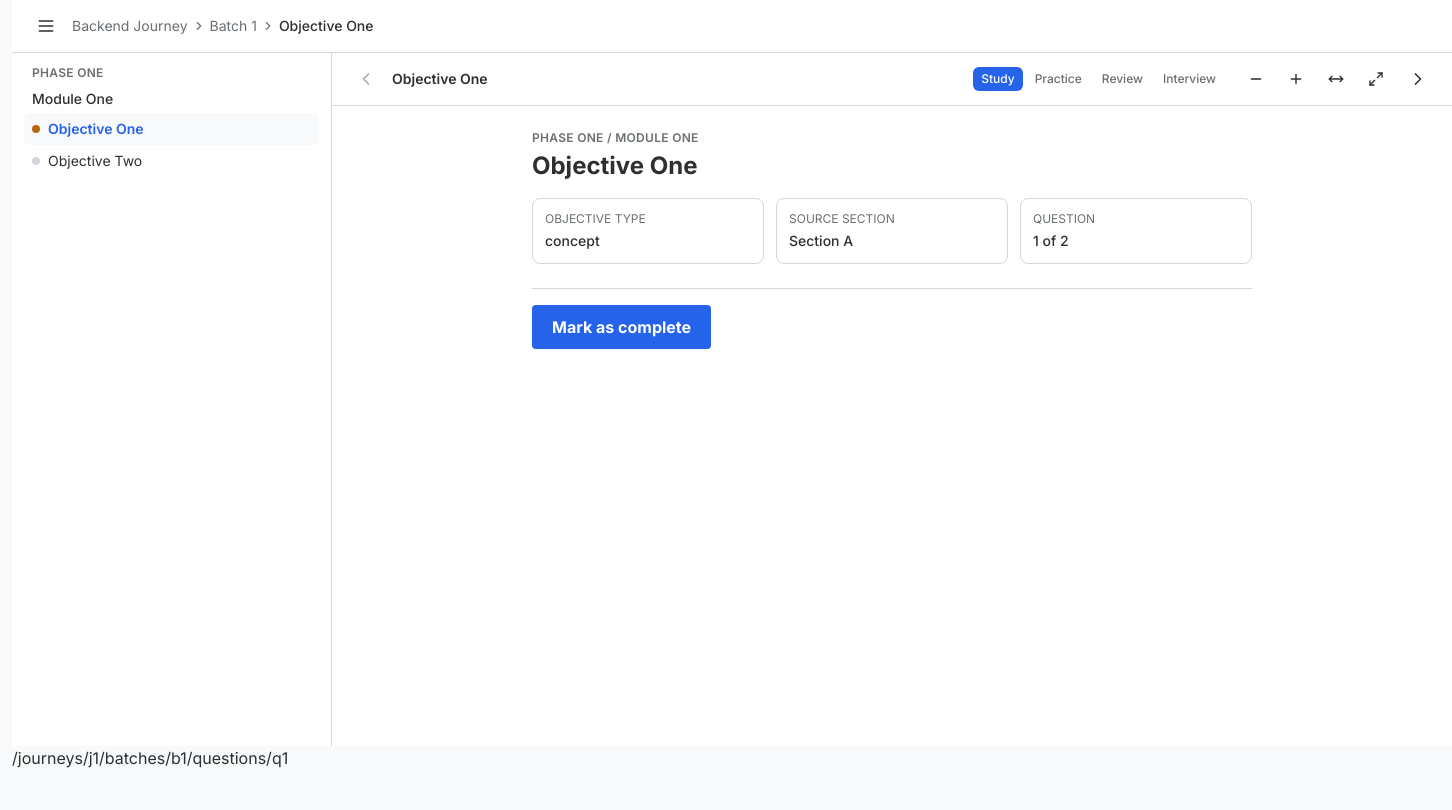
Test: StudyReaderPage › serves a param change from the cache without refetching
This screenshot has width=1452, height=810.
Expected: the 2nd heading "Objective One" is shown, [532,151,698,180]
Click the button named "Next question".
click(1418, 79)  # box [1400,61,1436,97]
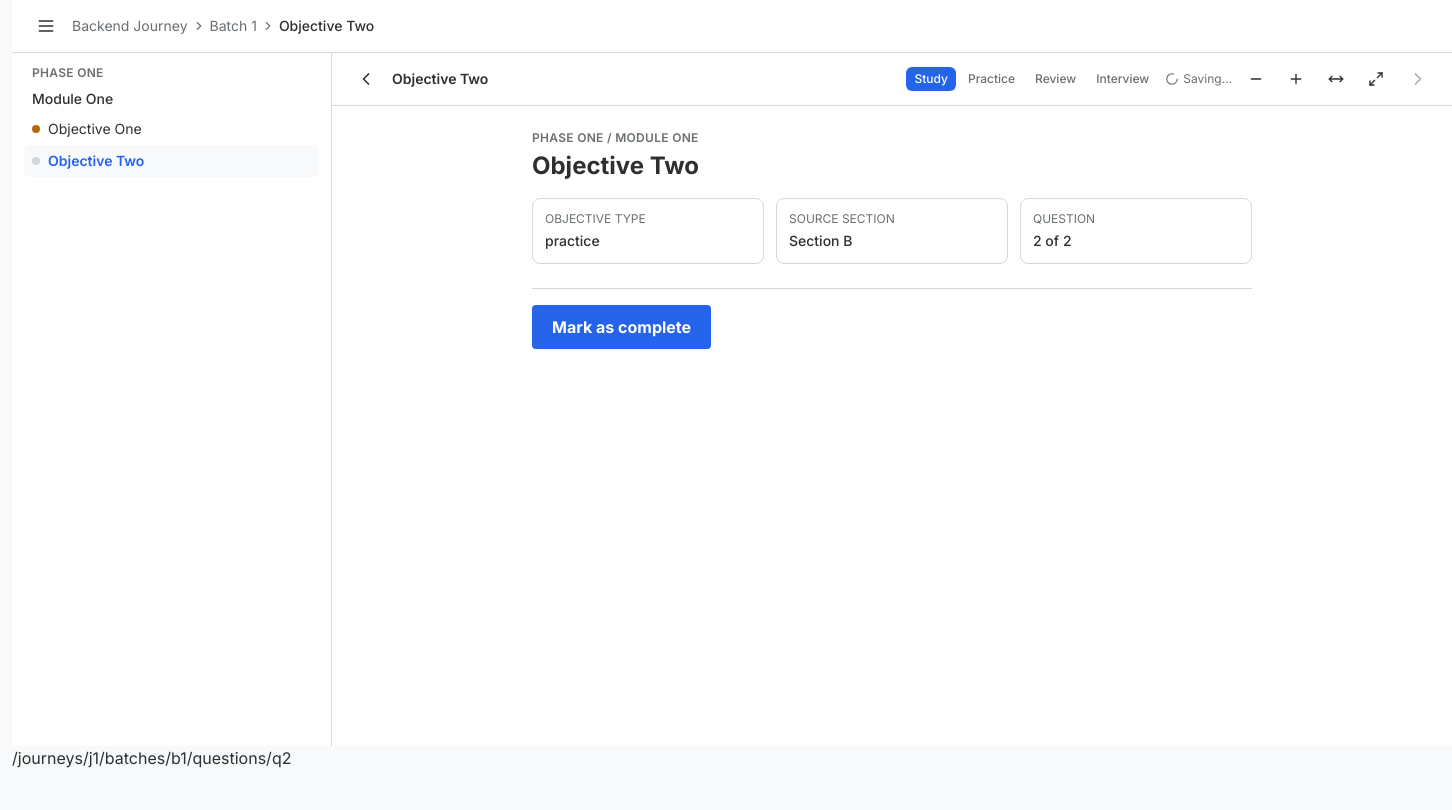
Result: the 2nd heading "Objective Two" is shown at [532,151,699,180]
